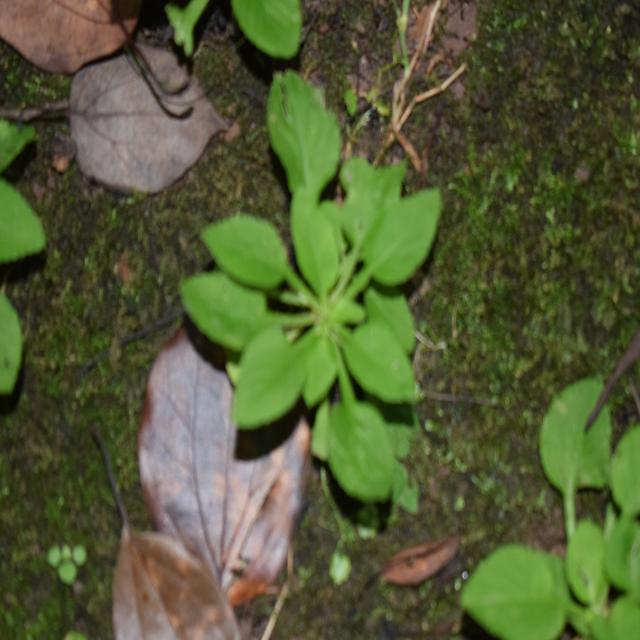Viola: (212, 94, 447, 515)
